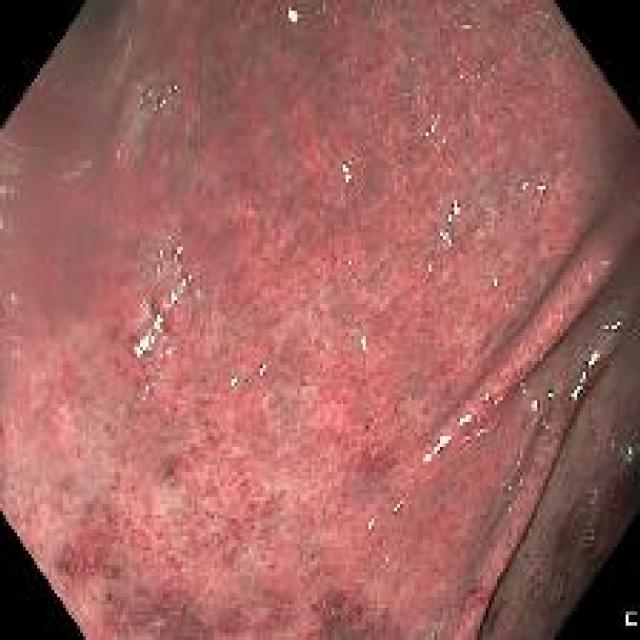blur: (1, 2, 223, 340)
bubbles: (144, 273, 197, 341), (133, 75, 153, 105), (139, 377, 157, 407), (169, 241, 185, 266), (151, 364, 168, 383), (153, 91, 165, 116), (153, 240, 167, 261), (165, 75, 177, 96), (340, 157, 353, 175), (478, 390, 492, 405), (500, 479, 511, 496), (150, 262, 164, 275), (424, 628, 441, 638)
specularity: (422, 433, 454, 463), (169, 271, 196, 306), (133, 328, 160, 363), (385, 493, 409, 519), (573, 369, 590, 403), (436, 227, 457, 253), (444, 197, 462, 226), (356, 331, 373, 361), (340, 158, 356, 187), (148, 307, 167, 330), (280, 5, 303, 24), (584, 347, 600, 369), (625, 436, 636, 467), (602, 316, 621, 333), (454, 411, 474, 427), (256, 359, 268, 383), (362, 514, 375, 535), (227, 370, 241, 388), (534, 180, 548, 198), (519, 178, 530, 196), (528, 396, 539, 413), (544, 387, 556, 401), (479, 393, 491, 404), (492, 277, 499, 289)
